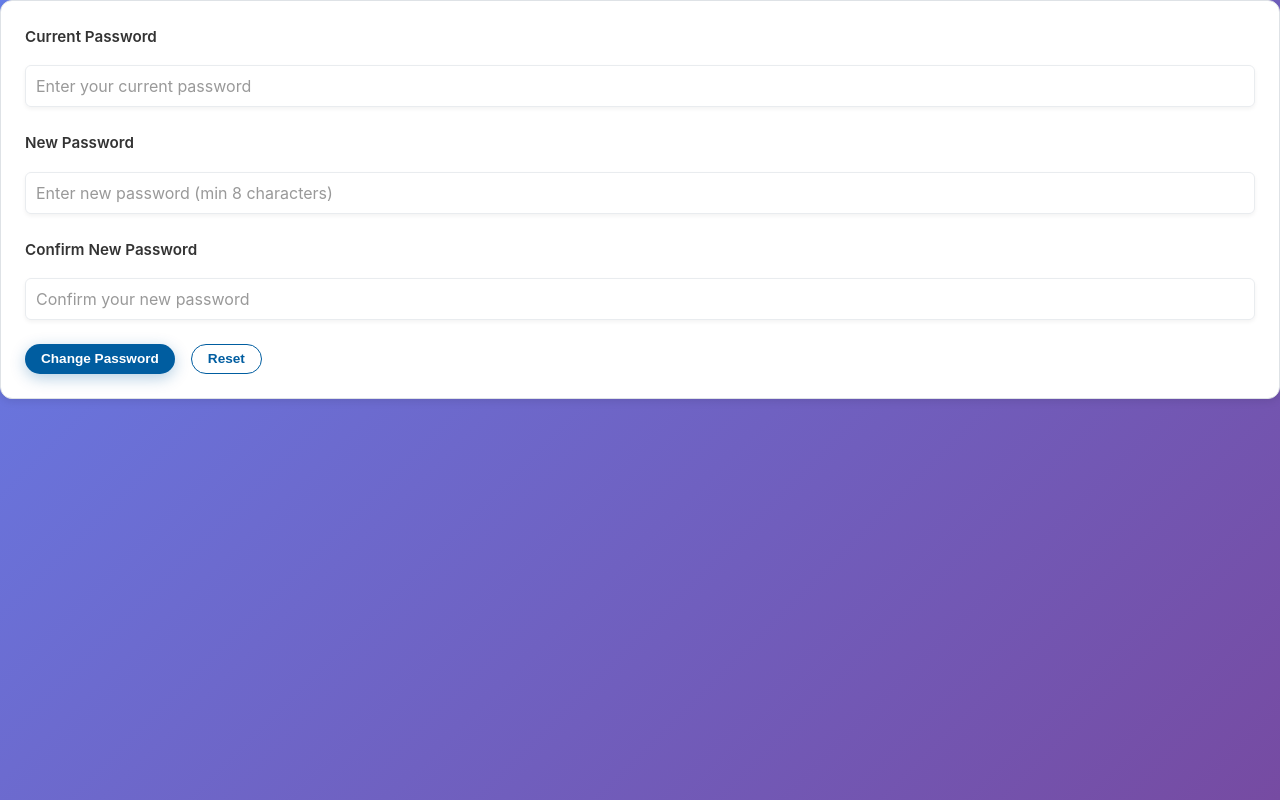
Test: PasswordChangeCard Component › Reset Functionality › reset button clears all fields
Type "test" into the password field with placeholder "Enter your current password" at [640, 86], box [25,65,1255,107]
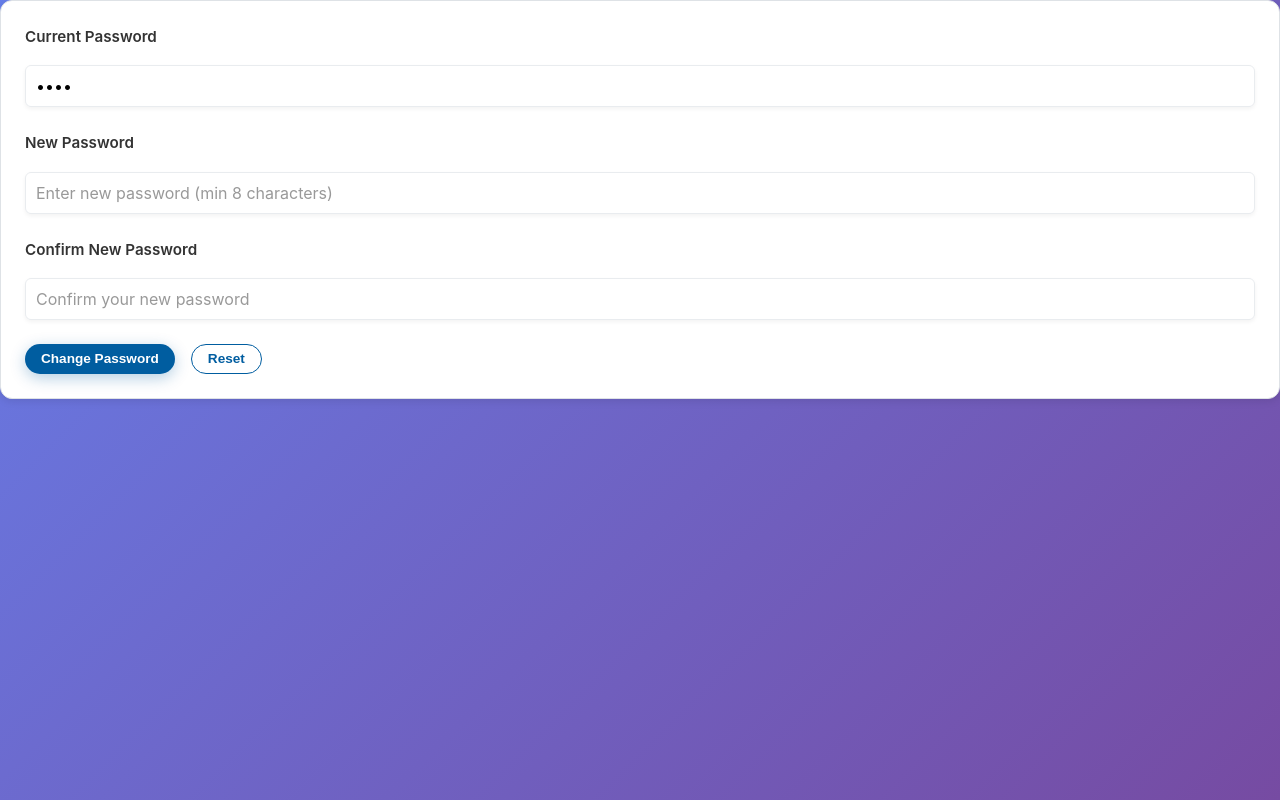
Type "test123" into the password field with placeholder "Enter new password (min 8 characters)" at [640, 193], box [25,172,1255,214]
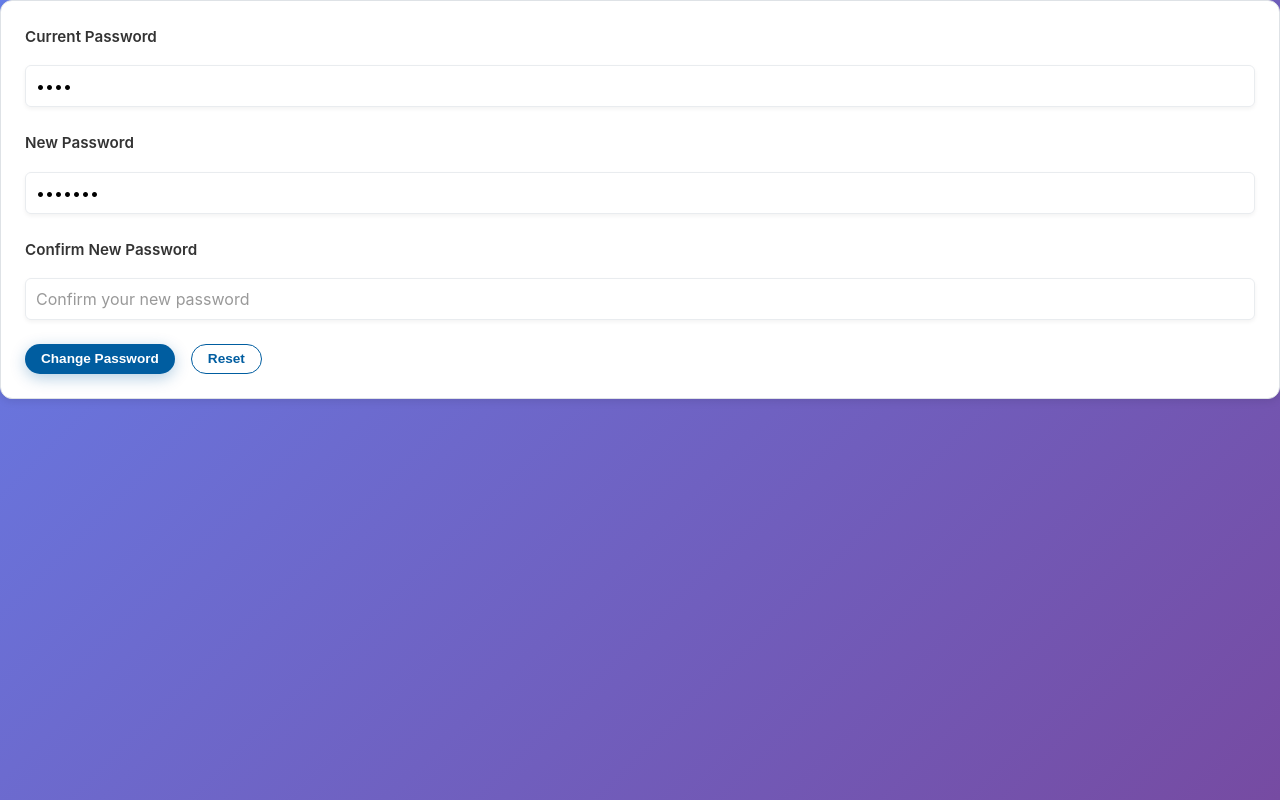
Type "test123" into the password field with placeholder "Confirm your new password" at [640, 299], box [25,278,1255,320]
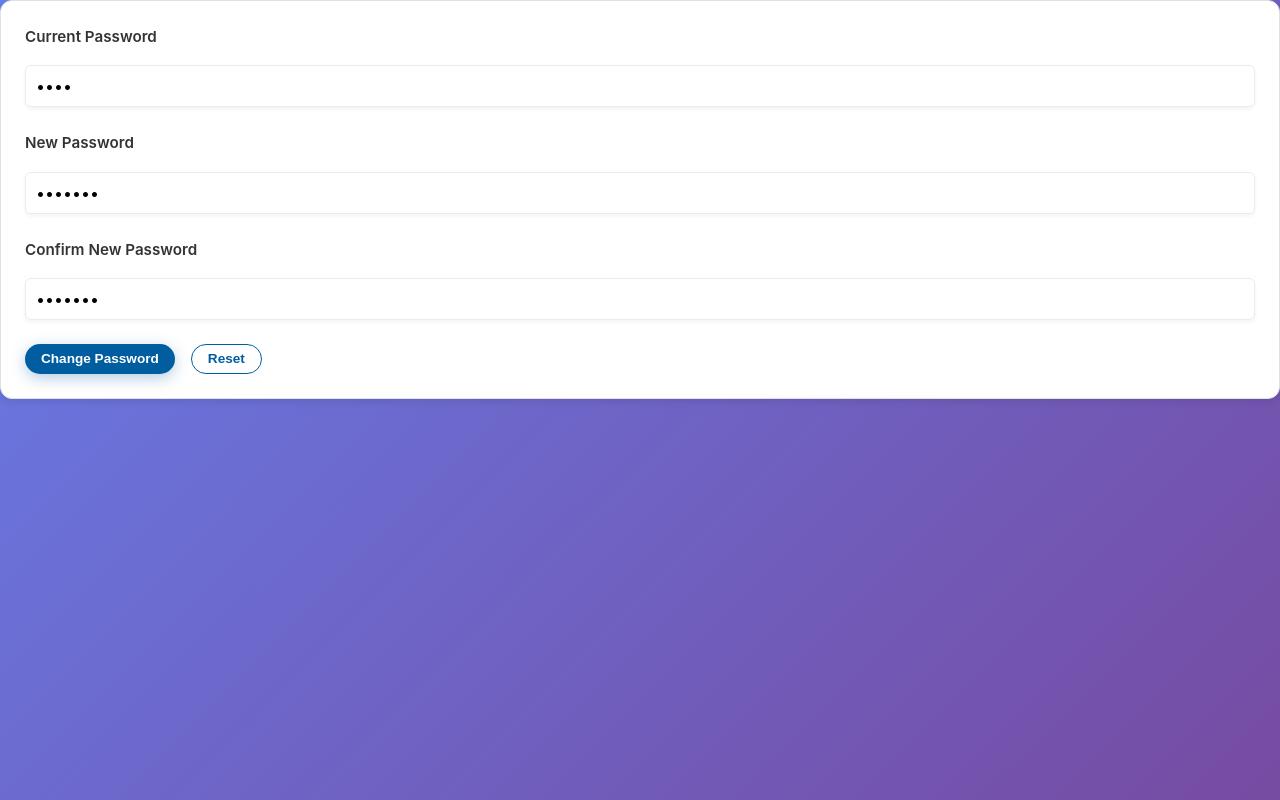
Click the button "Reset" at [226, 359], box [191,344,262,374]
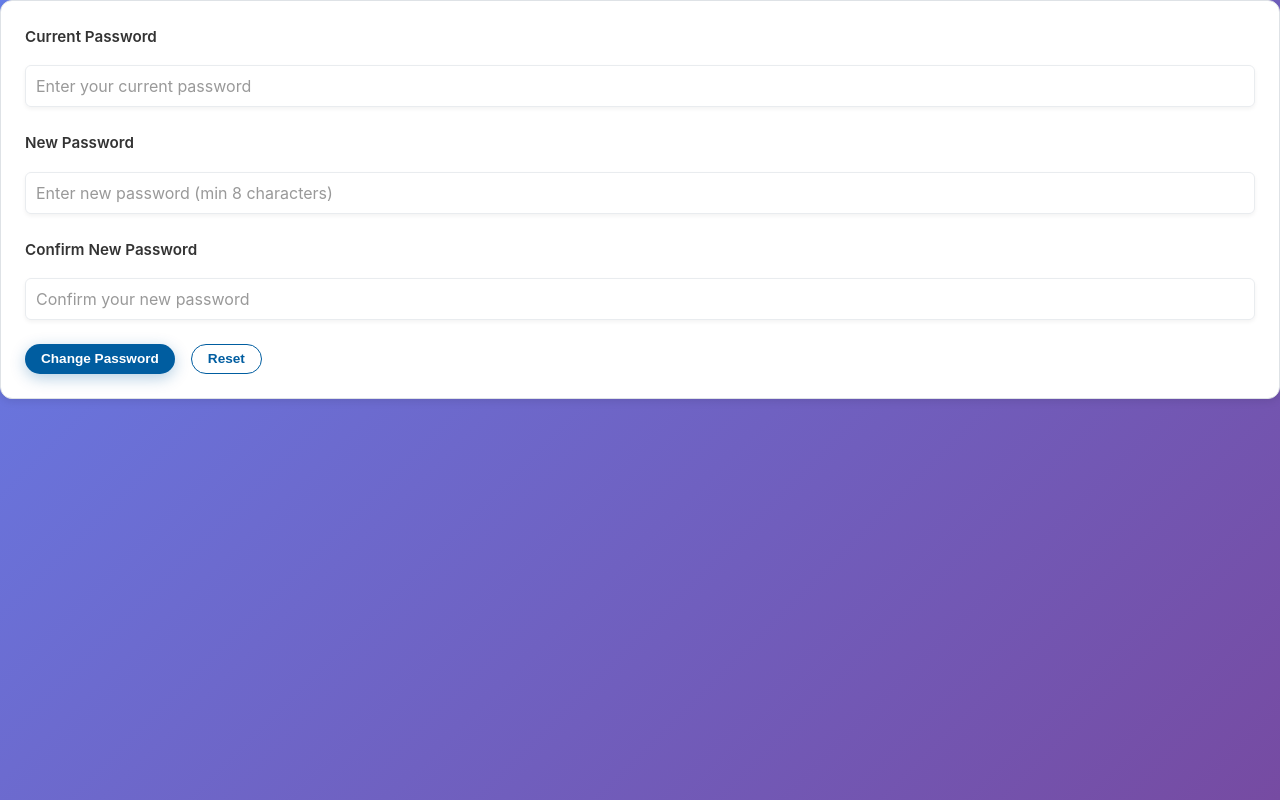
Check: the password field with placeholder "Enter your current password" is empty, box [25,65,1255,107]
Check: the password field with placeholder "Enter new password (min 8 characters)" is empty, box [25,172,1255,214]
Check: the password field with placeholder "Confirm your new password" is empty, box [25,278,1255,320]
